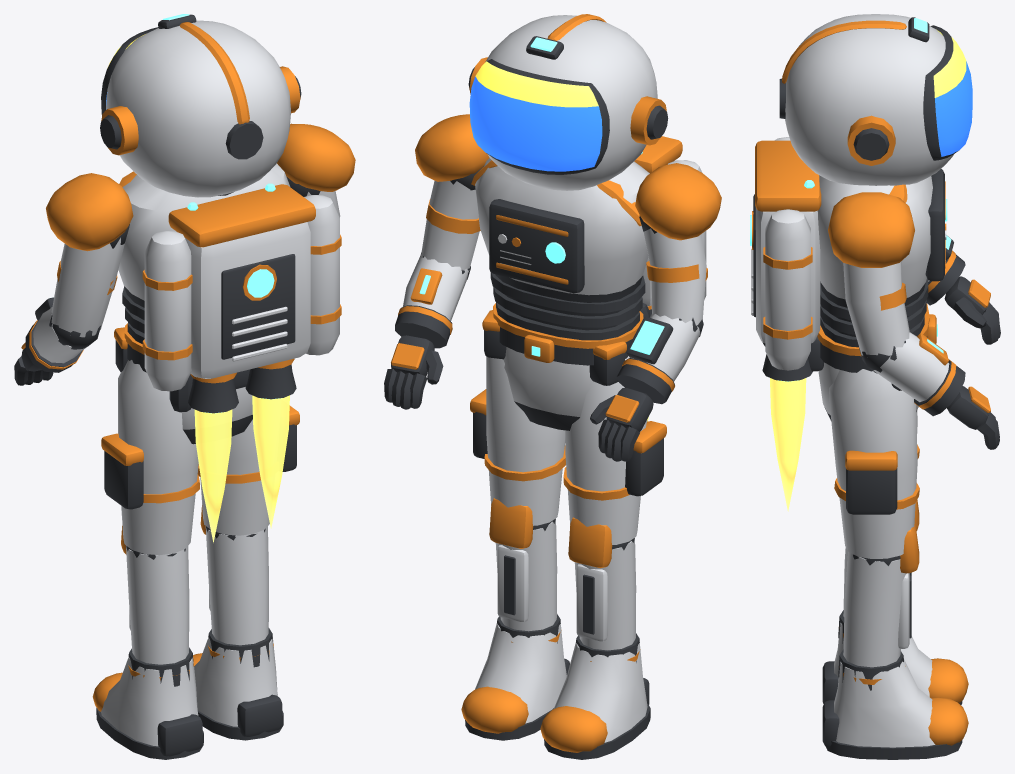
File: astronaut.glb
3 renders of one model, left to right at view 1: azimuth 30°, elevation 25°; view 2: azimuth 150°, elevation 25°; view 3: azimuth 270°, elevation 25°, orthographic.
Parts seen in each view (by area): view 1: Jetpack, Head, Shin_L, Shin_R, Leg_L, Arm_L, Torso, Leg_R, Arm_R, JetFlame_L, JetFlame_R, Forearm_L (+2 smaller); view 2: Torso, Shin_L, Shin_R, Head, Visor, Hips, Arm_L, Leg_R, Leg_L, Arm_R, Forearm_L, Forearm_R (+1 smaller); view 3: Head, Shin_R, Jetpack, Leg_R, Arm_R, Torso, Forearm_R, Visor, Shin_L, Forearm_L, JetFlame_R, Hips.
Part boxes in pixels (<box>): Jetpack: <box>142,183,341,413</box>; Head: <box>100,14,301,197</box>; Shin_L: <box>92,525,203,759</box>; Shin_R: <box>193,505,283,740</box>; Leg_L: <box>101,360,199,559</box>; Arm_L: <box>46,173,133,349</box>; Torso: <box>118,163,290,343</box>; Leg_R: <box>197,405,299,540</box>; Arm_R: <box>277,123,355,217</box>; JetFlame_L: <box>194,409,232,542</box>; JetFlame_R: <box>252,395,289,528</box>; Forearm_L: <box>14,297,86,385</box>; Torso: <box>471,158,649,340</box>; Shin_L: <box>540,517,650,759</box>; Shin_R: <box>461,498,569,740</box>; Head: <box>468,14,668,190</box>; Visor: <box>469,59,609,174</box>; Hips: <box>482,303,649,430</box>; Arm_L: <box>635,163,721,336</box>; Leg_R: <box>470,356,565,530</box>; Leg_L: <box>563,356,666,550</box>; Arm_R: <box>415,114,489,279</box>; Forearm_L: <box>590,314,700,461</box>; Forearm_R: <box>384,254,468,409</box>; Head: <box>779,14,953,185</box>; Shin_R: <box>822,522,968,759</box>; Jetpack: <box>750,137,821,381</box>; Leg_R: <box>829,369,919,565</box>; Arm_R: <box>828,192,914,373</box>; Torso: <box>817,169,947,347</box>; Forearm_R: <box>873,332,999,449</box>; Visor: <box>923,25,972,160</box>; Shin_L: <box>822,499,968,705</box>; Forearm_L: <box>926,235,1000,344</box>; JetFlame_R: <box>770,378,806,511</box>; Hips: <box>808,303,937,420</box>.
Bounding box in the file's own units: 0.7901 × 1.81 × 0.5865.
